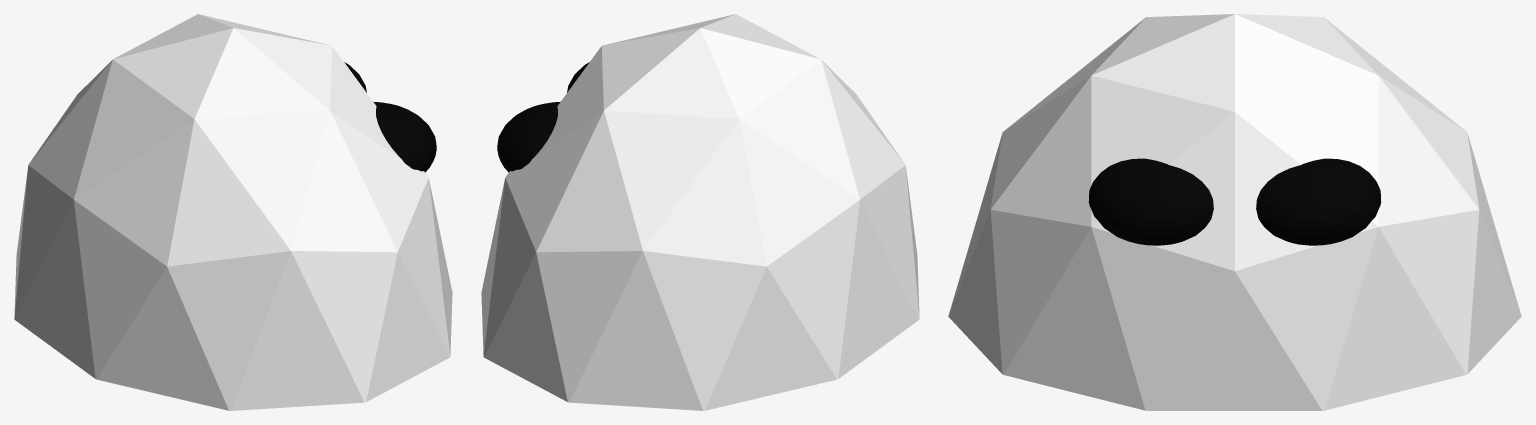
Rendered from blob.fbx.
3 renders of one model, left to right at view 1: azimuth 30°, elevation 25°; view 2: azimuth 150°, elevation 25°; view 3: azimuth 270°, elevation 25°, orthographic. The views are drawn at different scales.
Parts seen in each view (by area): view 1: Sphere.001; view 2: Sphere.001; view 3: Sphere.001.
Boxes of the visible parts, <box> form: Sphere.001: <box>14,14,452,410</box>; Sphere.001: <box>481,14,919,410</box>; Sphere.001: <box>948,14,1521,410</box>.
Bounding box in the file's own units: 122 × 90.6 × 156.
2 materials, 2 textured.
